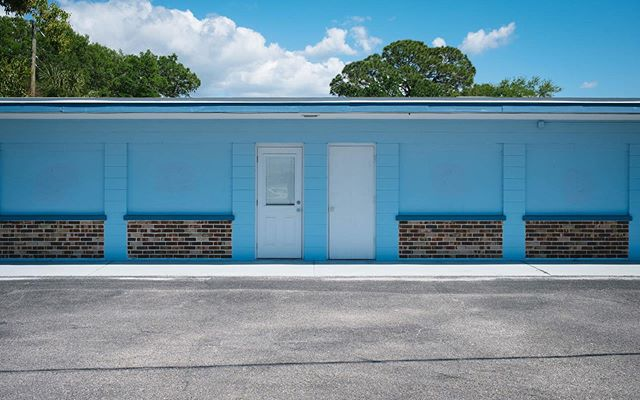building: (1, 93, 638, 268)
door: (326, 143, 378, 262), (255, 145, 306, 260)
sky: (120, 1, 633, 93)
street: (11, 277, 640, 400)
tree: (1, 1, 201, 95), (328, 42, 533, 102)
